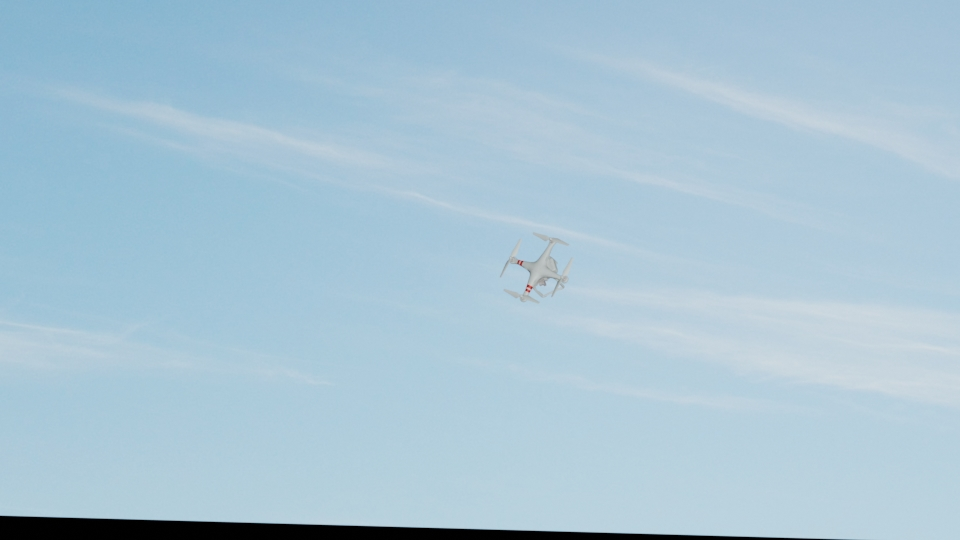drone: (499, 228, 573, 305)
